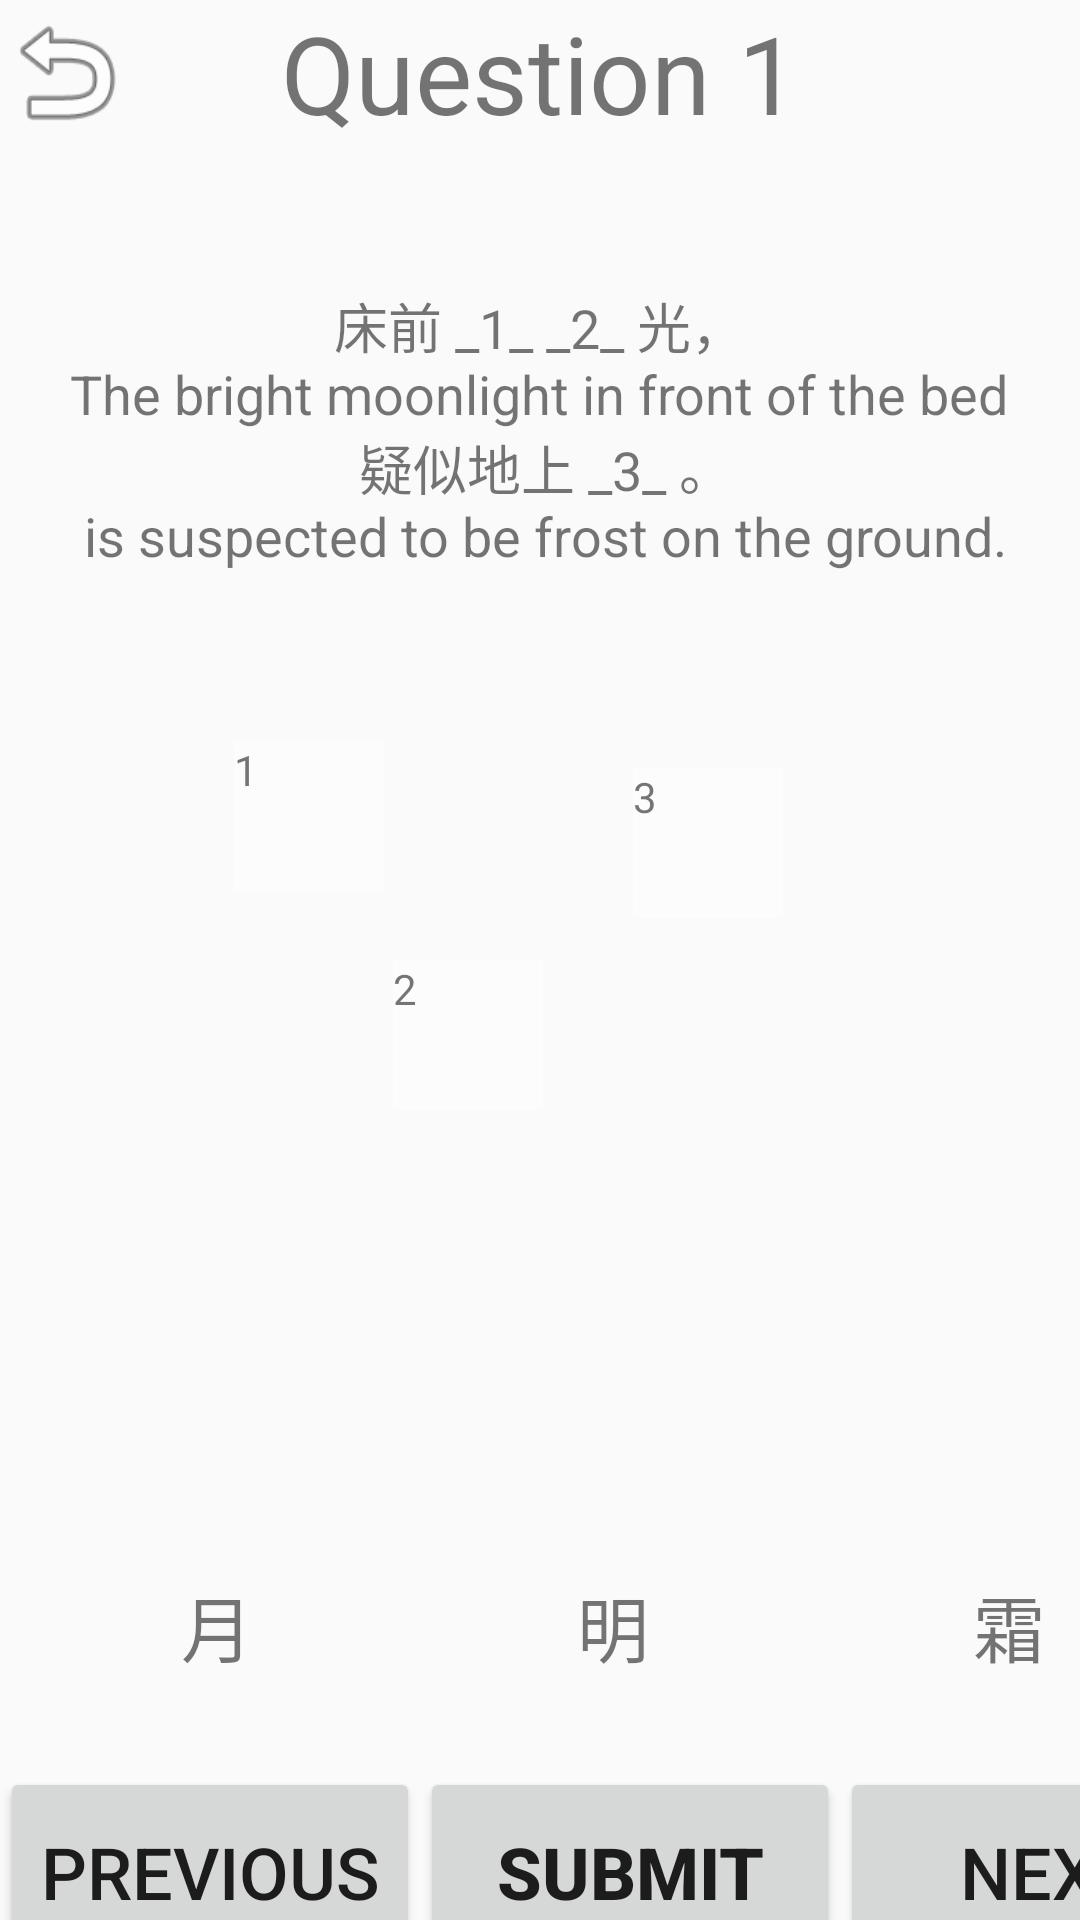

Named icons in this screenshot (1080px x 1920px) and their centers, [x,y]:
revert: [68,73]
